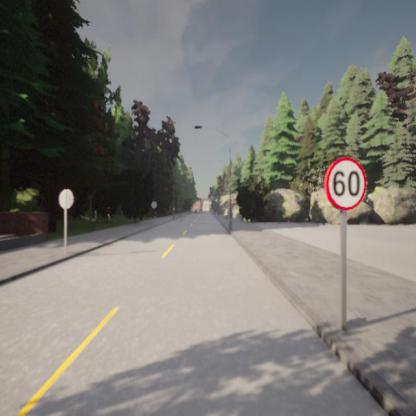traffic_sign_60: (324, 157, 366, 210)
